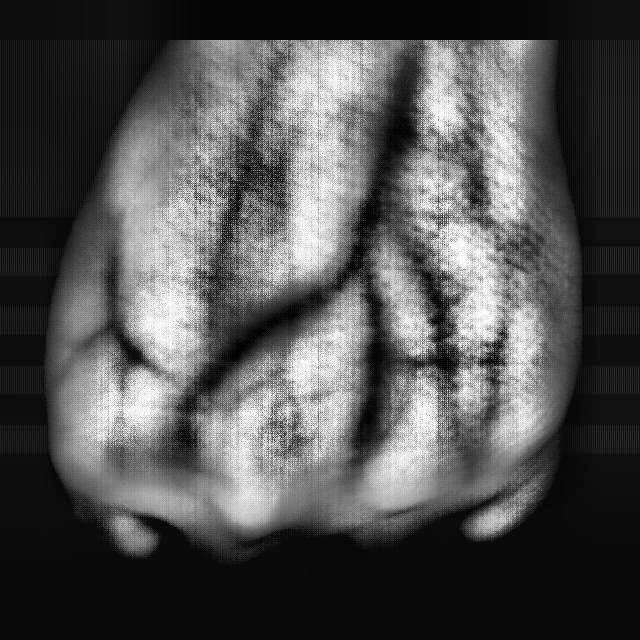Vein: (347, 55, 430, 246)
